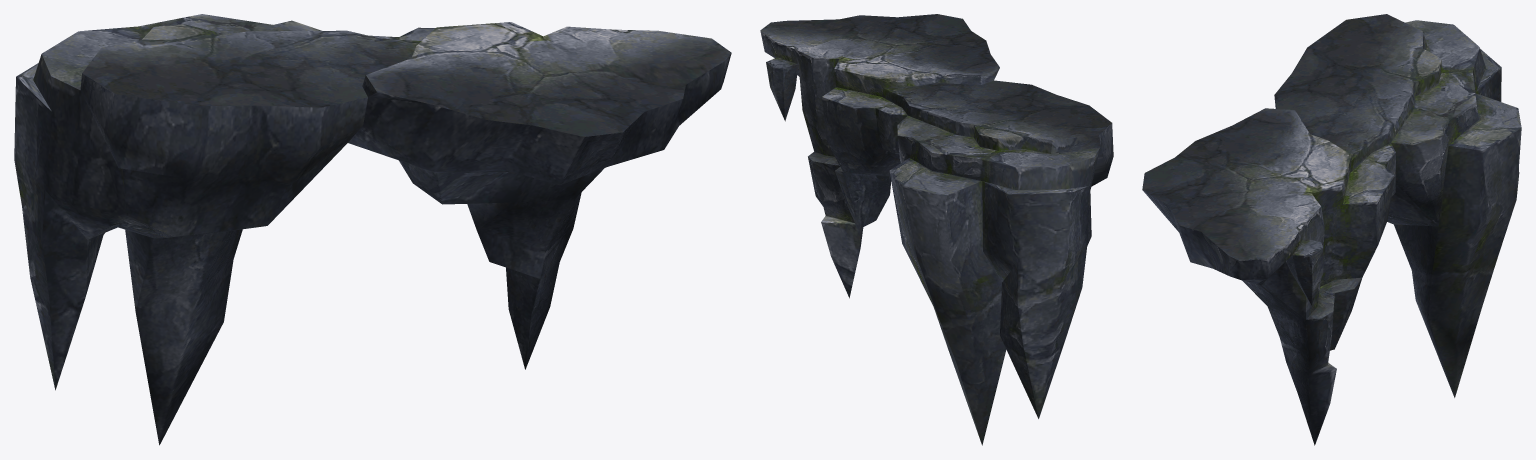
File: dx_shitou_6.FBX
The picture shows the model from 3 angles, left to right: view 1: azimuth 30°, elevation 25°; view 2: azimuth 150°, elevation 25°; view 3: azimuth 270°, elevation 25°; orthographic projection. The views are drawn at different scales.
Visible parts, largest first — view 1: dx_shitou_6; view 2: dx_shitou_6; view 3: dx_shitou_6.
Boxes of the visible parts, x1,y1,x2,y2 form: dx_shitou_6: (14, 14, 731, 445); dx_shitou_6: (760, 14, 1113, 445); dx_shitou_6: (1142, 14, 1521, 445).
Size of the model in its own units: 635 by 463 by 471.
